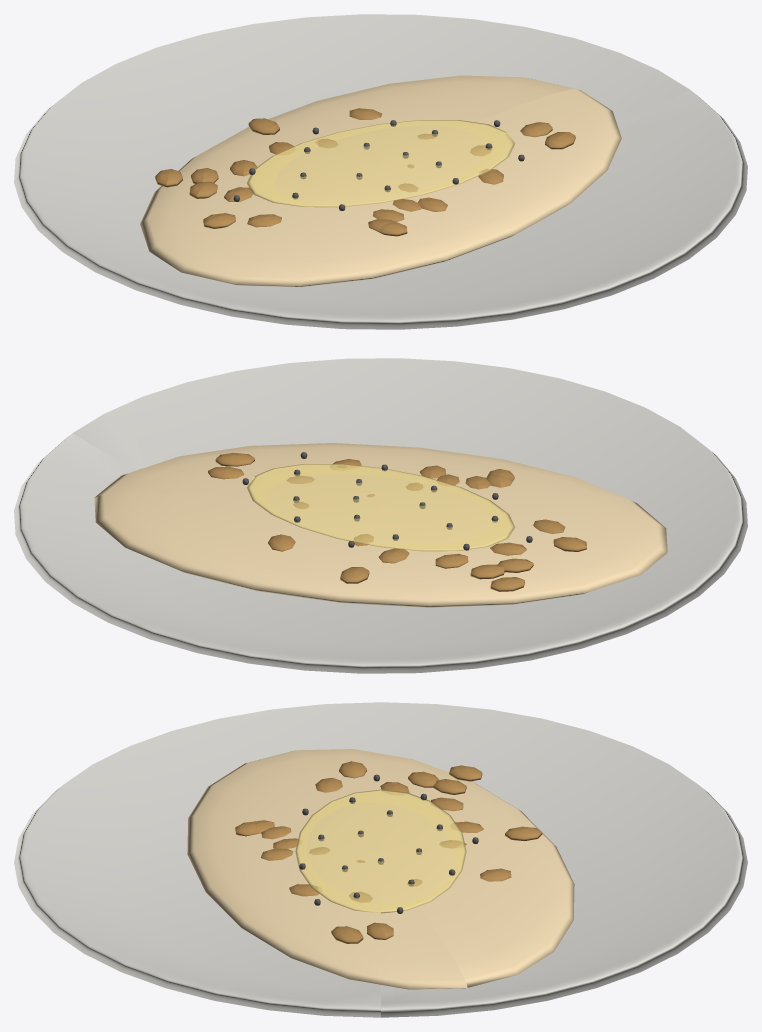
Rendered from butter-naan.glb.
3 views of the same model, one above another, from view 1: azimuth 30°, elevation 25°; view 2: azimuth 150°, elevation 25°; view 3: azimuth 270°, elevation 25° (orthographic).
Visible parts, largest first — view 1: butter-naan; view 2: butter-naan; view 3: butter-naan.
Boxes of the visible parts, bbox=[...] form: butter-naan: bbox=[14, 14, 747, 329]; butter-naan: bbox=[14, 358, 747, 673]; butter-naan: bbox=[14, 702, 747, 1017].
Bounding box in the file's own units: 0.3 × 0.0225 × 0.3.
